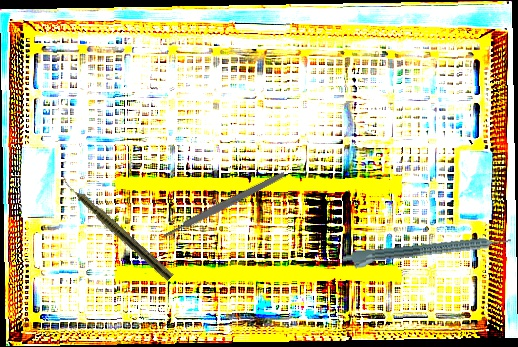Handpiece: (56, 174, 176, 282), (342, 234, 513, 272)
Scalpel Handle: (161, 170, 287, 240)
